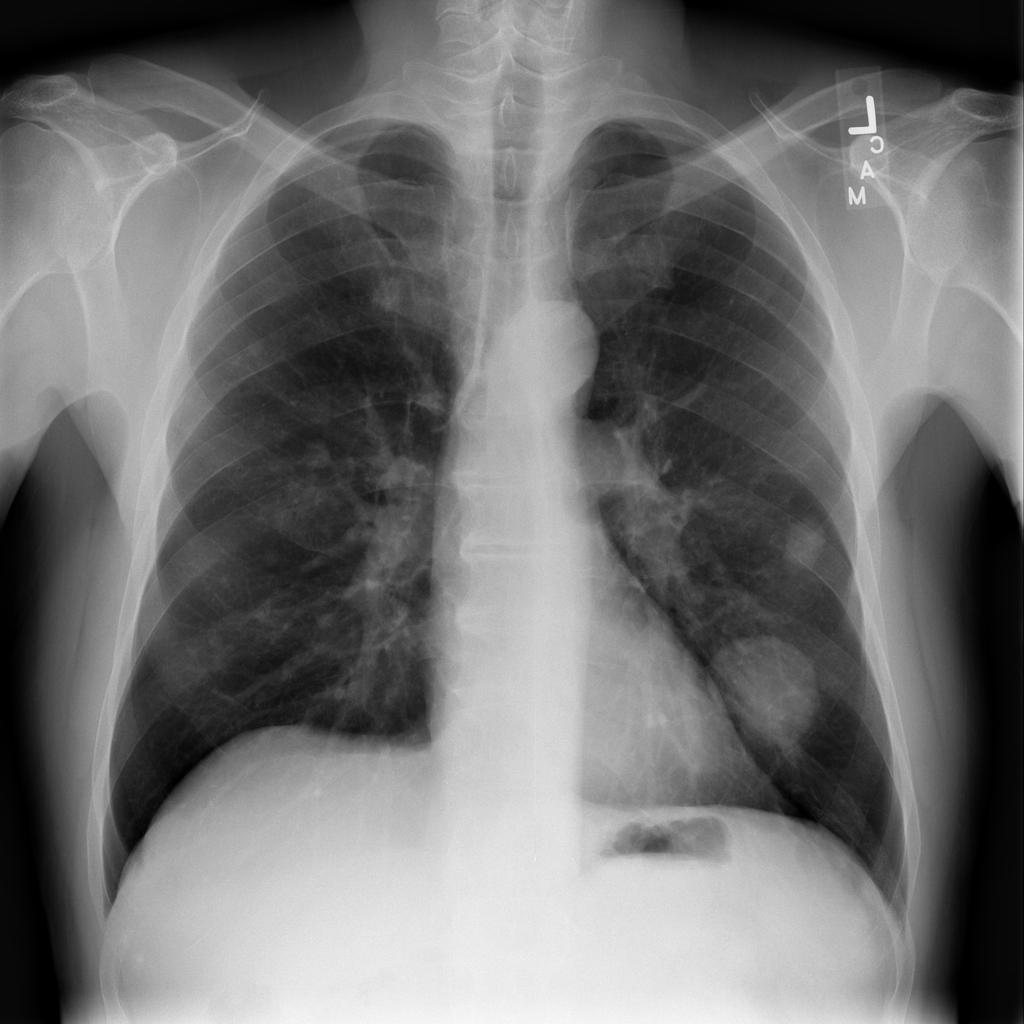nodule: (694, 612, 841, 763), (764, 503, 837, 586), (288, 432, 342, 481), (364, 264, 412, 319), (226, 322, 280, 370)
